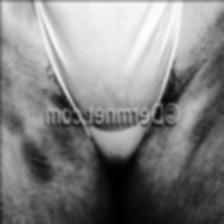Unclassified: (184, 0, 224, 131), (9, 130, 78, 181), (0, 25, 32, 123), (153, 124, 175, 150)
